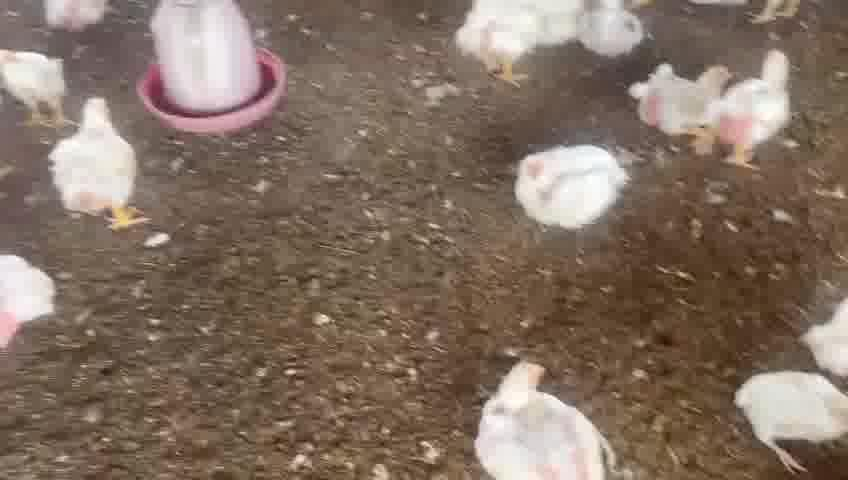AbNormal: (472, 360, 612, 480), (741, 369, 848, 470), (516, 142, 618, 225), (636, 65, 730, 138)
Normal: (50, 94, 143, 230), (706, 50, 791, 173), (460, 0, 540, 90), (1, 44, 71, 126)
